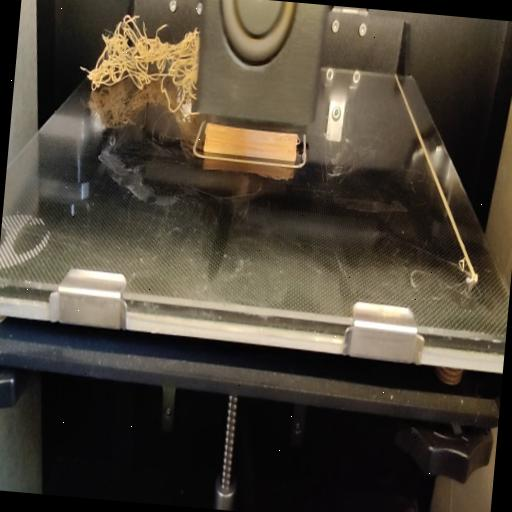spaghetti: (80, 12, 204, 112)
